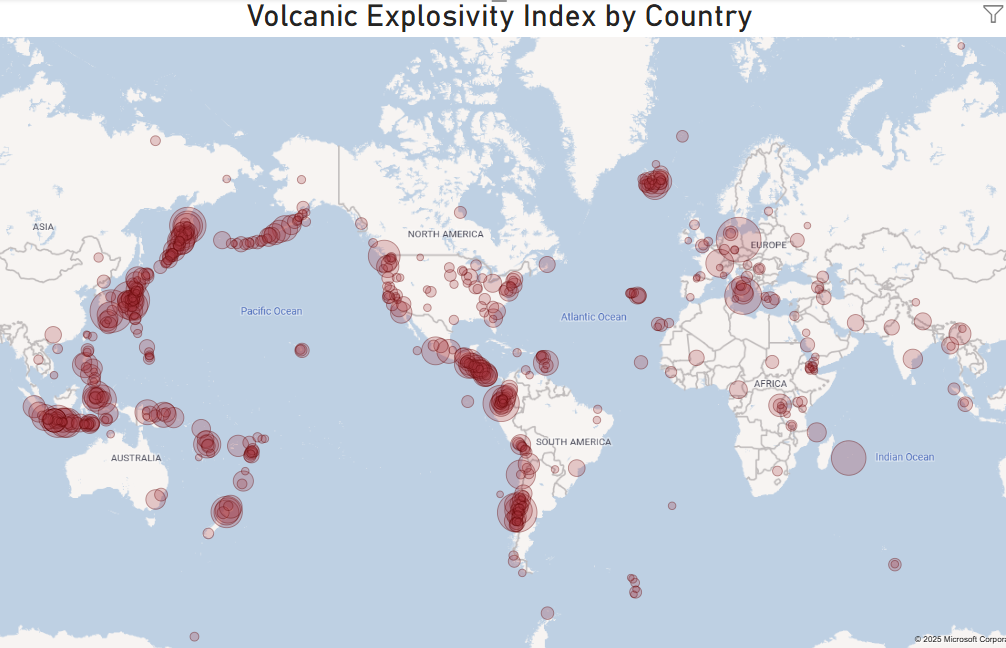

What the dashboard file says about the page in this screenshot:
{"tool":"powerbi","page":{"name":"Page 1","canvas":[1280,720],"ordinal":0},"visuals":[{"type":"map","title":"Volcanic Explosivity Index  by Country","fields":{"Category":["Eruption List.Volcano_Name"],"Size":["Sum(Eruption List.VEI)"]},"box":[9.6,0,1270.7,720.4],"z":0}]}

Visuals, with their boxes on the page's 1280x720 design canvas (x1, y1, x2, y2). These are canvas units, not pixel positions in the 1006x648 screenshot, which may show the page scaled, cropped or inside an application window:
"Volcanic Explosivity Index  by Country" map: [10,0,1280,720]
